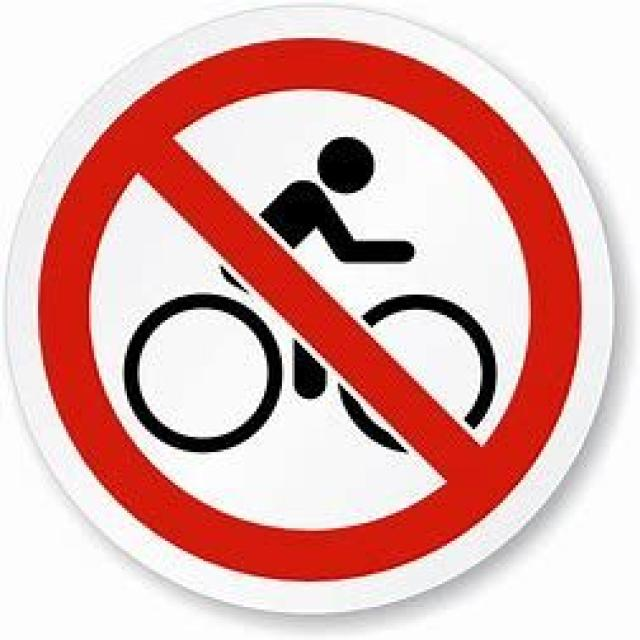cycle_prohibited: (3, 2, 612, 610)
